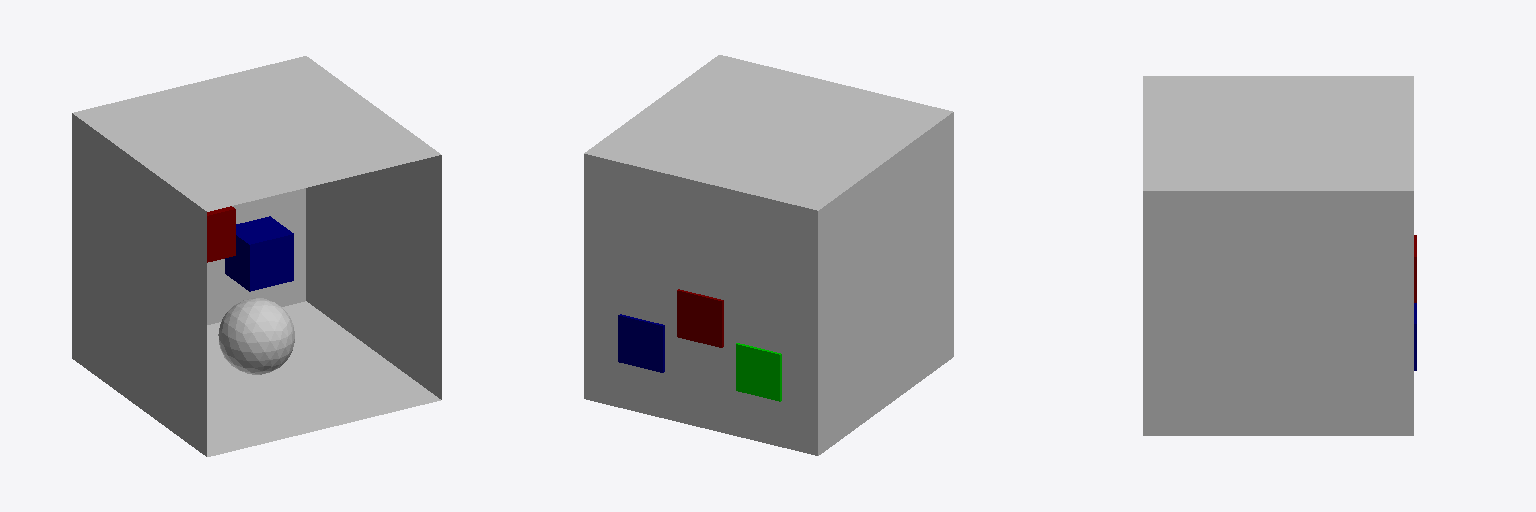
File: Box_Transmission.obj
The picture shows the model from 3 angles: view 1: azimuth 30°, elevation 25°; view 2: azimuth 150°, elevation 25°; view 3: azimuth 270°, elevation 25°; orthographic projection.
Parts seen in each view (by area): view 1: Cube.001, Icosphere, Cube.003, Cube; view 2: Cube.001, Cube.003, Cube, Cube.002; view 3: Cube.001.
Boxes of the visible parts, box(x1,y1,x2,y2) form: Cube.001: box(72, 56, 441, 456); Icosphere: box(218, 298, 294, 374); Cube.003: box(225, 216, 293, 291); Cube: box(207, 206, 235, 262); Cube.001: box(584, 55, 953, 455); Cube.003: box(618, 314, 664, 372); Cube: box(677, 289, 723, 347); Cube.002: box(736, 343, 781, 401); Cube.001: box(1143, 76, 1413, 435).
Size of the model in its own units: 4 by 4 by 4.05.